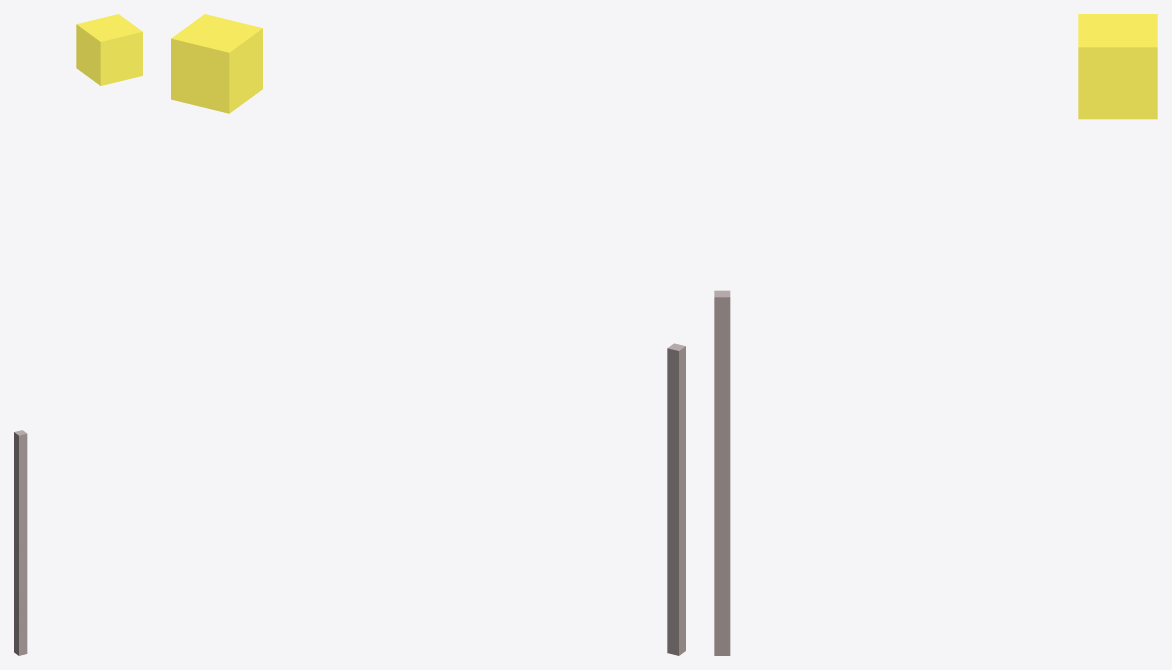
Rendered from Elements_DirectionalLight.glb.
The picture shows the model from 3 angles, left to right: view 1: azimuth 30°, elevation 25°; view 2: azimuth 150°, elevation 25°; view 3: azimuth 270°, elevation 25°; orthographic projection. The views are drawn at different scales.
Visible parts, largest first — view 1: a20e8b65-23e9-450d-a6c3-6d8b638f15ce_mesh, ea89159f-4846-4718-8af1-79303768d3ab_mesh; view 2: a20e8b65-23e9-450d-a6c3-6d8b638f15ce_mesh, ea89159f-4846-4718-8af1-79303768d3ab_mesh; view 3: a20e8b65-23e9-450d-a6c3-6d8b638f15ce_mesh, ea89159f-4846-4718-8af1-79303768d3ab_mesh.
Boxes of the visible parts, x1,y1,x2,y2 form: a20e8b65-23e9-450d-a6c3-6d8b638f15ce_mesh: [76, 14, 142, 85]; ea89159f-4846-4718-8af1-79303768d3ab_mesh: [14, 430, 27, 655]; a20e8b65-23e9-450d-a6c3-6d8b638f15ce_mesh: [171, 14, 262, 113]; ea89159f-4846-4718-8af1-79303768d3ab_mesh: [667, 343, 685, 655]; a20e8b65-23e9-450d-a6c3-6d8b638f15ce_mesh: [1078, 14, 1157, 119]; ea89159f-4846-4718-8af1-79303768d3ab_mesh: [714, 290, 730, 655].
Size of what is drawn, in the model's own units: 5.6 by 11 by 5.6.
